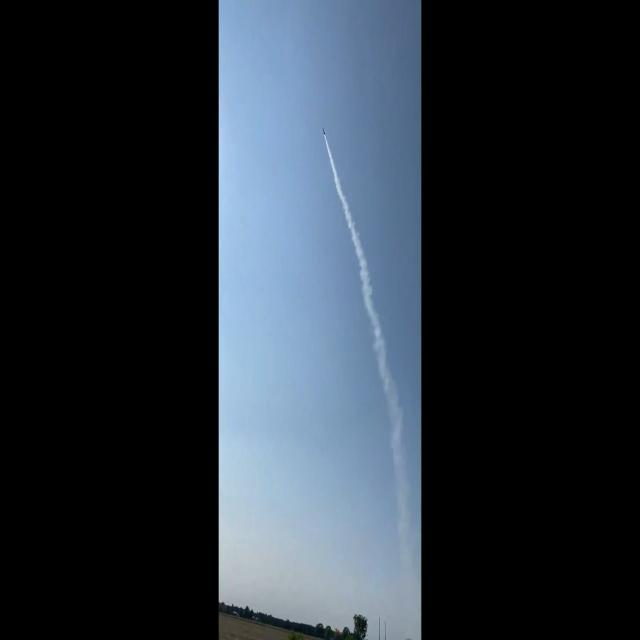Rocket: (322, 126, 325, 136)
